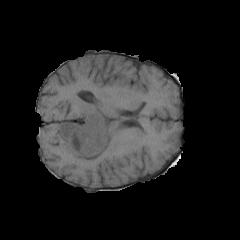glioma: (58, 91, 121, 160)
